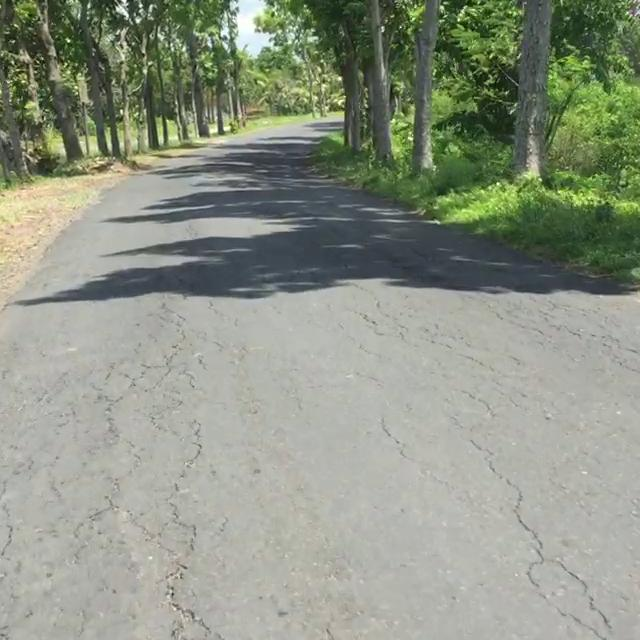retak_kulit_buaya: (350, 286, 476, 371)
retak_memanjang: (454, 415, 640, 640), (120, 415, 262, 640)
